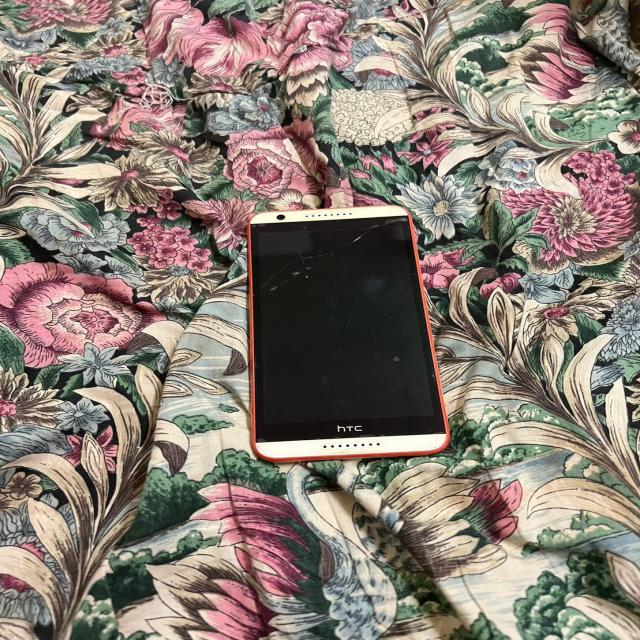Smartphone: (248, 207, 448, 454)
